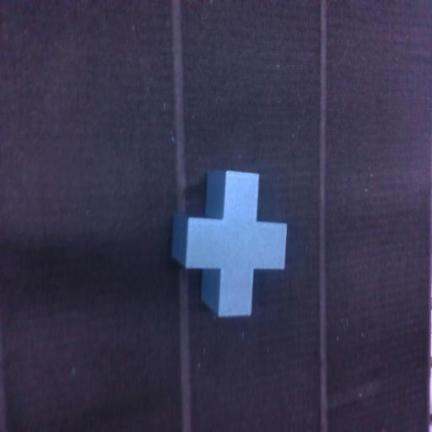cross: (173, 171, 286, 316)
